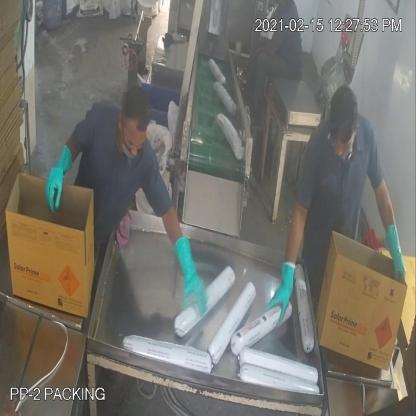glove: (163, 224, 211, 324), (259, 248, 303, 336), (40, 130, 74, 230), (376, 206, 412, 298)
